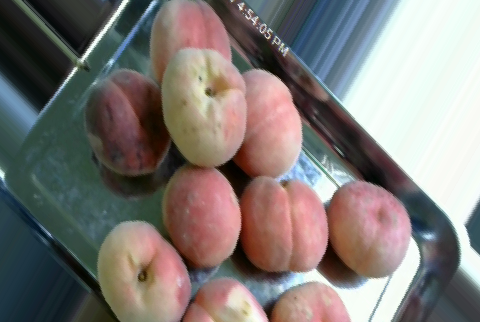Peach: (163, 45, 252, 165), (96, 220, 192, 322), (87, 65, 167, 176), (240, 175, 329, 273), (325, 179, 410, 278), (227, 67, 302, 179), (160, 165, 241, 267), (149, 0, 233, 80)
